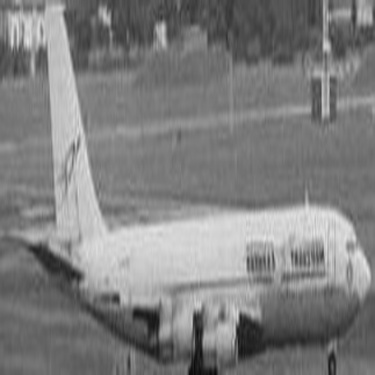airplane: (1, 2, 370, 372)
